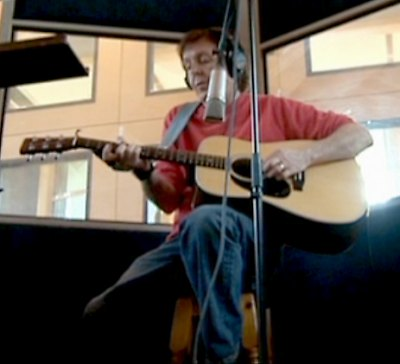guitar: (16, 133, 370, 257)
